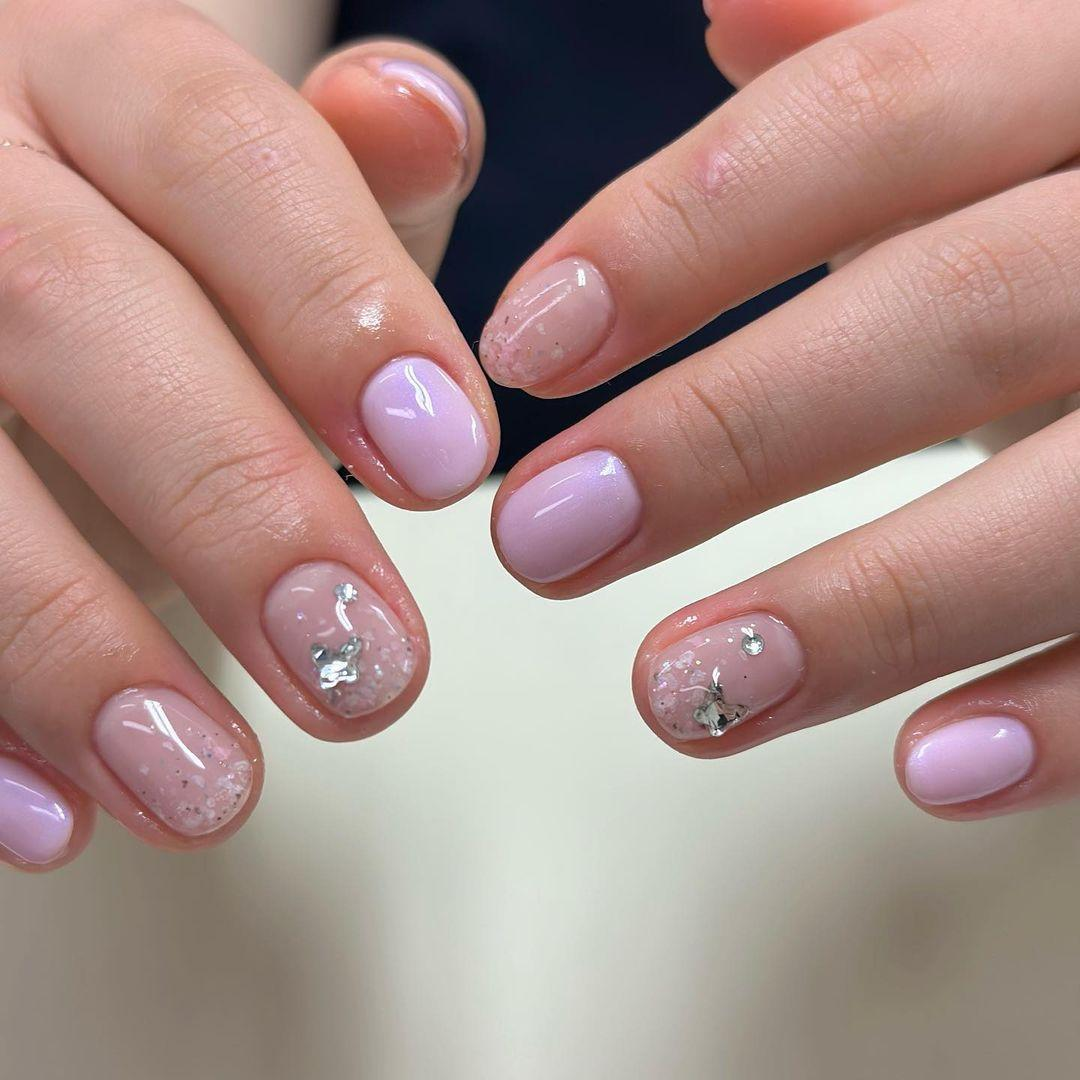nail: (89, 681, 257, 841), (259, 556, 418, 722), (643, 609, 806, 744), (490, 446, 643, 587), (356, 351, 489, 502), (476, 253, 617, 393), (901, 708, 1038, 808), (0, 751, 74, 867)
